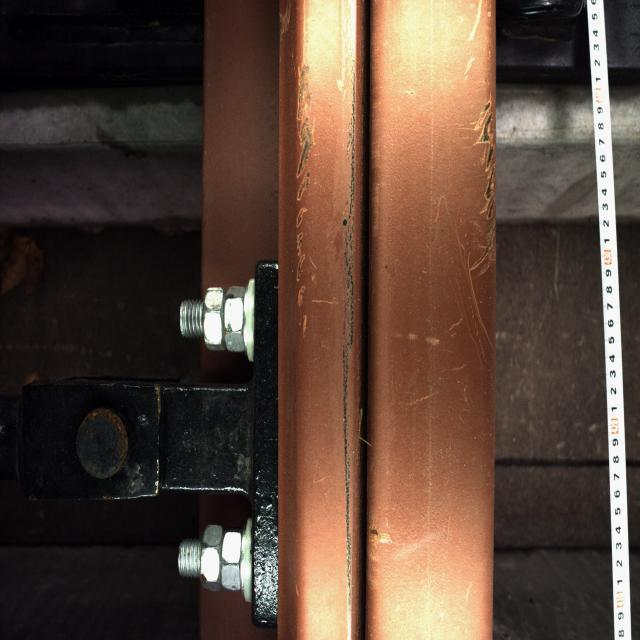scar: (440, 1, 504, 361), (285, 1, 353, 329)
